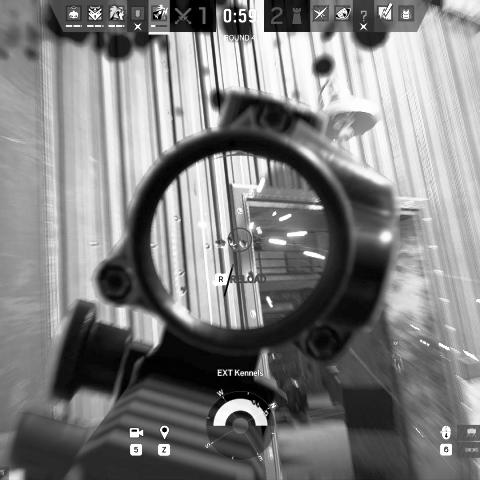Character: (253, 233, 263, 251)
